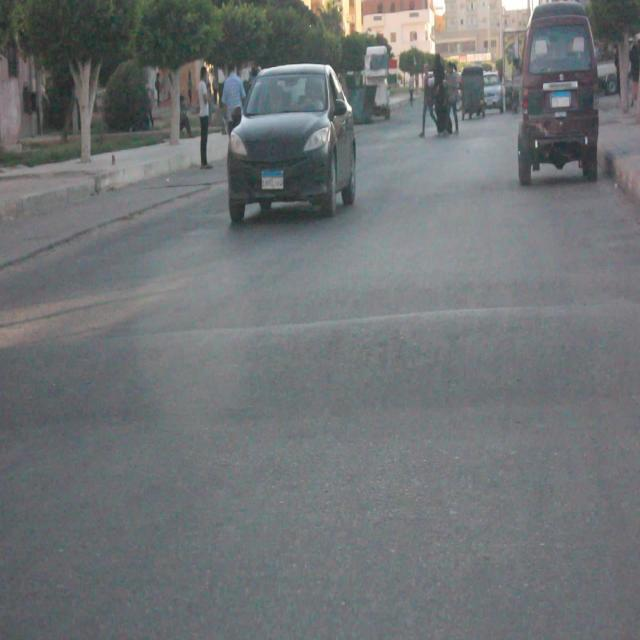NonMarked Bump: (25, 320, 618, 428)
